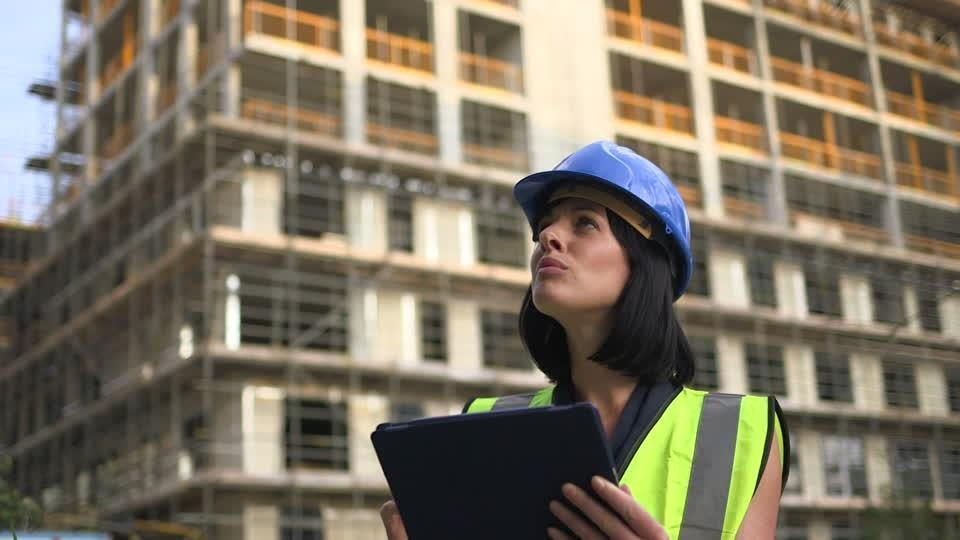vest: (450, 382, 795, 540)
